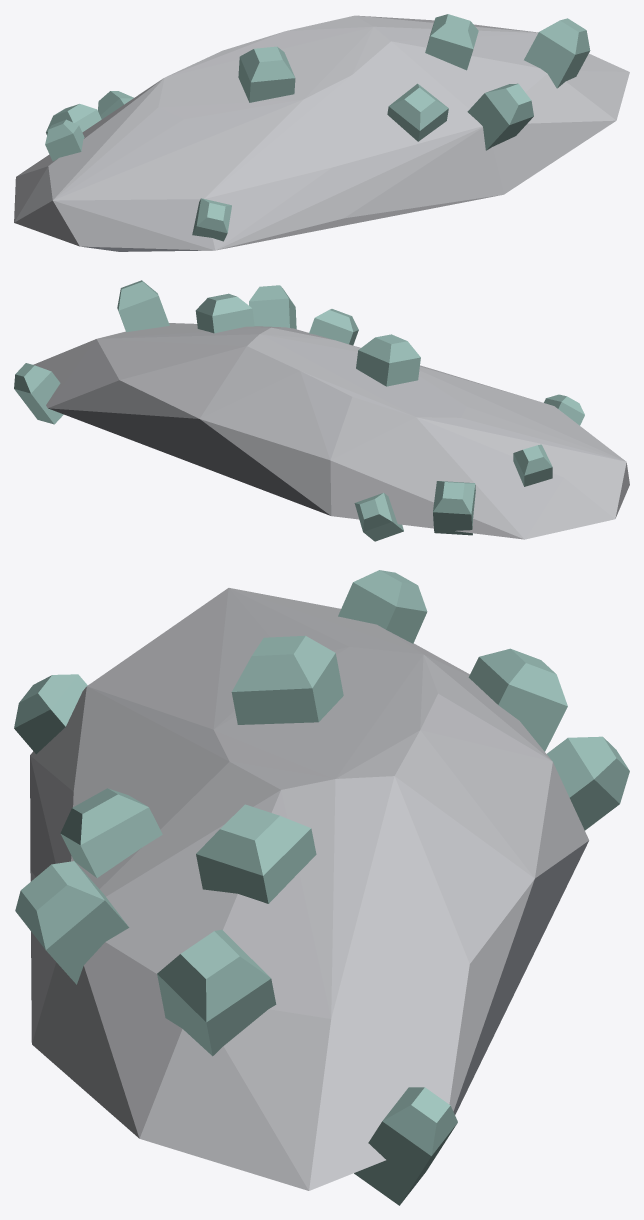
The model's file is SM_MR_Crystal_Medium_05.fbx.
3 renders of one model, top to bottom at view 1: azimuth 30°, elevation 25°; view 2: azimuth 150°, elevation 25°; view 3: azimuth 270°, elevation 25°, orthographic. The views are drawn at different scales.
Parts seen in each view (by area): view 1: SM_MR_Crystal_Medium_05; view 2: SM_MR_Crystal_Medium_05; view 3: SM_MR_Crystal_Medium_05.
Part boxes in pixels (<box>): SM_MR_Crystal_Medium_05: <box>14,14,629,251</box>; SM_MR_Crystal_Medium_05: <box>14,280,629,541</box>; SM_MR_Crystal_Medium_05: <box>14,570,629,1205</box>.
Bounding box in the file's own units: 1.15 × 0.5409 × 0.2562.
